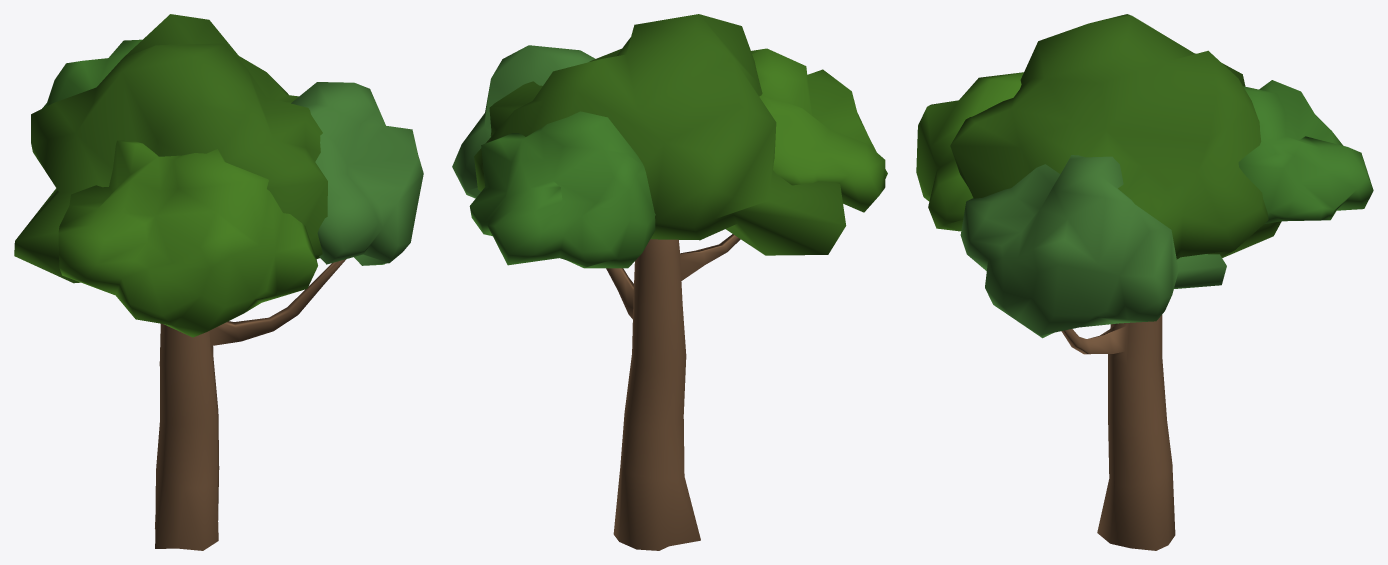
Rendered from Arbolito.fbx.
3 views of the same model, side by side, from view 1: azimuth 30°, elevation 25°; view 2: azimuth 150°, elevation 25°; view 3: azimuth 270°, elevation 25° (orthographic).
Parts seen in each view (by area): view 1: Icosphere, Icosphere.001, Icosphere.002, Cylinder, Icosphere.003; view 2: Icosphere, Icosphere.003, Cylinder, Icosphere.001, Icosphere.002; view 3: Icosphere, Icosphere.002, Cylinder, Icosphere.003, Icosphere.001.
Boxes of the visible parts, bbox=[...] form: Icosphere: bbox=[14, 14, 327, 283]; Icosphere.001: bbox=[58, 140, 317, 337]; Icosphere.002: bbox=[291, 82, 423, 265]; Cylinder: bbox=[155, 259, 346, 550]; Icosphere.003: bbox=[42, 39, 142, 108]; Icosphere: bbox=[474, 14, 846, 255]; Icosphere.003: bbox=[469, 111, 655, 268]; Cylinder: bbox=[606, 234, 740, 550]; Icosphere.001: bbox=[751, 48, 887, 212]; Icosphere.002: bbox=[452, 45, 595, 198]; Icosphere: bbox=[950, 14, 1281, 259]; Icosphere.002: bbox=[960, 155, 1226, 338]; Cylinder: bbox=[1061, 315, 1175, 550]; Icosphere.003: bbox=[1238, 80, 1373, 224]; Icosphere.001: bbox=[916, 72, 1023, 231].
Size of the model in its own units: 266 by 342 by 282.
